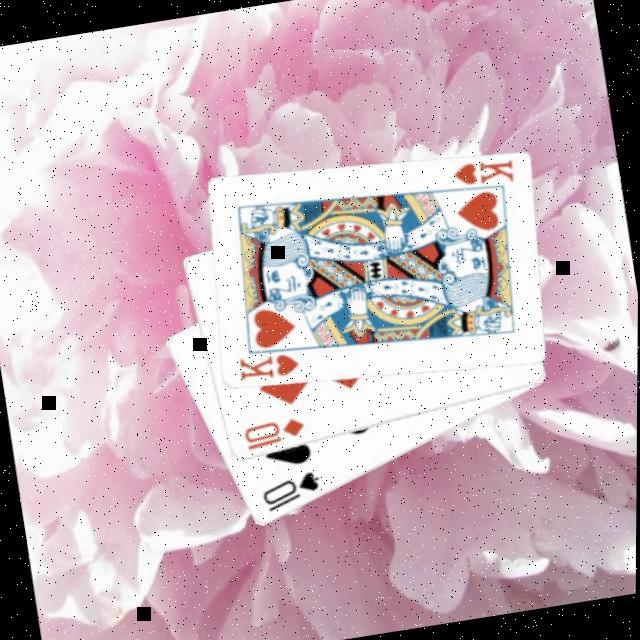10D: (238, 412, 308, 453)
10S: (256, 466, 326, 516)
KH: (234, 346, 304, 387), (448, 153, 518, 193)
